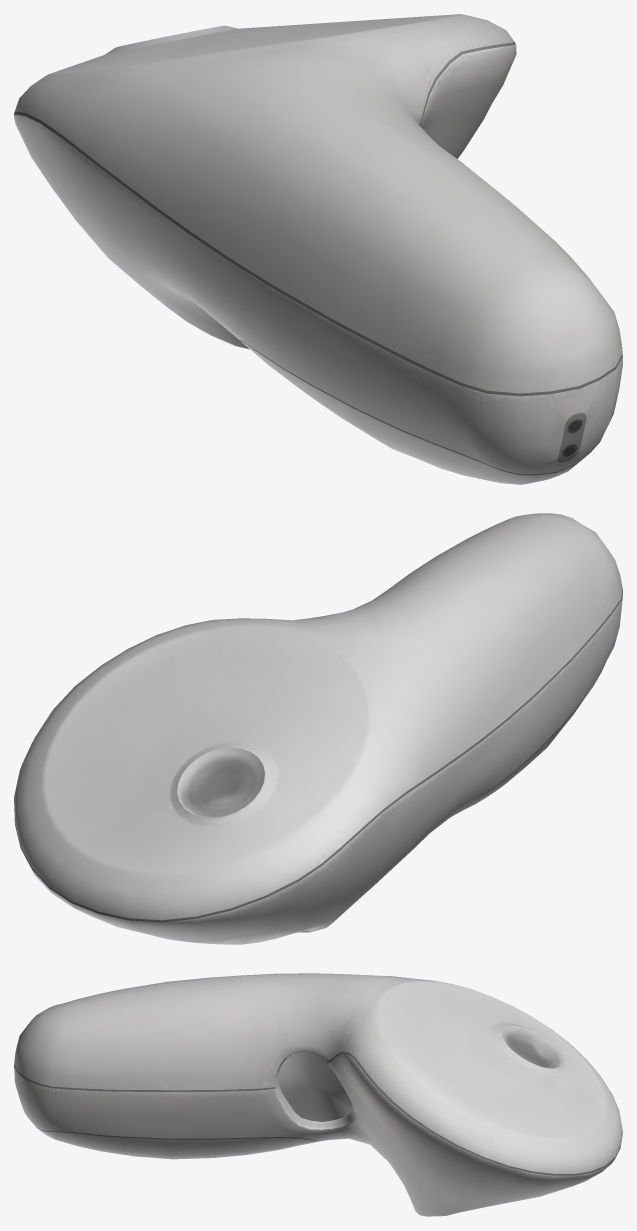
3 views of the same model, one above another, from view 1: azimuth 30°, elevation 25°; view 2: azimuth 150°, elevation 25°; view 3: azimuth 270°, elevation 25° (orthographic). The views are drawn at different scales.
Bounding box in the file's own units: 0.0701 × 0.0517 × 0.1372.
1 material, 1 textured.
